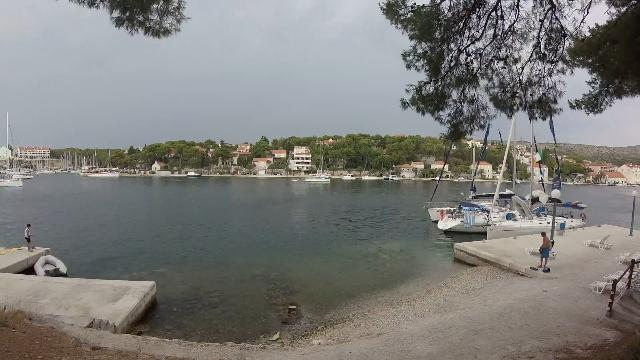Sailboat: (0, 173, 28, 191), (304, 170, 334, 186)
